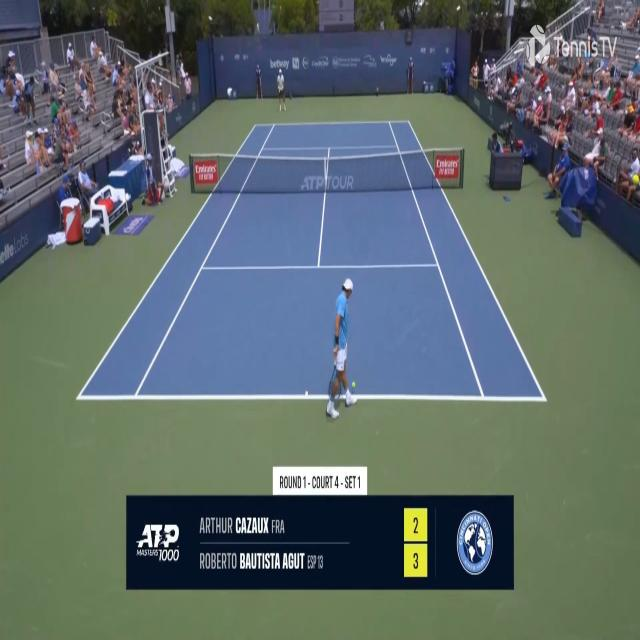tennis-player: (325, 276, 357, 424), (276, 66, 287, 114)
